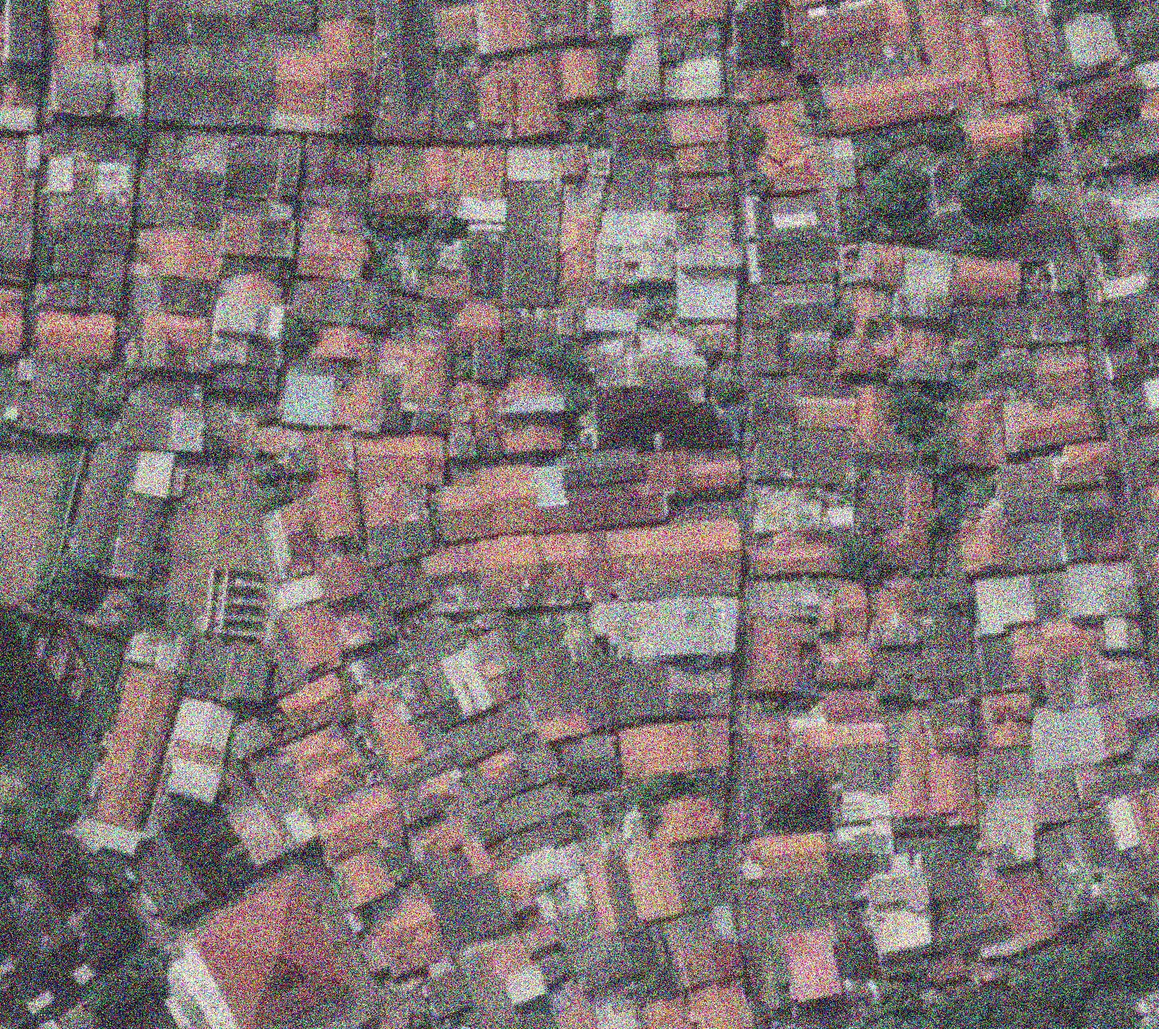building: (140, 868, 358, 1029), (420, 517, 744, 617), (785, 0, 995, 140), (733, 679, 895, 801), (582, 322, 719, 458), (62, 433, 177, 585), (85, 659, 185, 833), (121, 797, 255, 925), (149, 0, 274, 131), (1022, 805, 1146, 932), (549, 447, 678, 564), (738, 879, 842, 1018), (822, 58, 995, 137), (550, 888, 665, 1003), (826, 236, 911, 379), (589, 592, 742, 665), (921, 846, 1011, 963), (454, 925, 553, 1029), (136, 129, 232, 236), (861, 851, 939, 981), (622, 830, 726, 926), (429, 460, 545, 545), (460, 728, 567, 819), (1061, 87, 1159, 183), (157, 694, 238, 807), (0, 924, 95, 1019), (909, 573, 978, 703), (209, 766, 292, 873), (245, 746, 324, 858), (308, 778, 409, 865), (281, 719, 374, 813), (15, 830, 104, 925), (608, 657, 733, 724), (57, 882, 149, 973), (374, 0, 435, 136), (752, 193, 840, 285), (366, 895, 455, 984), (207, 295, 287, 394), (443, 631, 532, 719), (357, 471, 437, 568), (405, 809, 494, 896), (517, 646, 593, 747), (1036, 0, 1125, 86), (428, 867, 517, 952), (502, 183, 562, 309), (114, 388, 213, 464), (442, 694, 540, 770), (856, 471, 933, 567), (594, 204, 680, 289), (617, 717, 733, 780), (517, 837, 599, 926), (296, 187, 371, 282), (20, 354, 98, 441), (378, 339, 450, 433), (410, 650, 488, 735), (118, 379, 205, 455), (741, 767, 836, 836), (553, 175, 605, 299), (497, 365, 566, 457), (185, 638, 275, 708), (271, 669, 356, 742), (358, 687, 430, 773), (391, 762, 475, 834), (986, 198, 1073, 267), (1002, 395, 1100, 456), (279, 597, 350, 680), (261, 496, 331, 580), (917, 0, 986, 85), (621, 838, 686, 926), (293, 275, 393, 331), (433, 71, 508, 145), (43, 192, 133, 253), (202, 566, 274, 642), (979, 12, 1036, 108), (581, 848, 641, 939), (994, 867, 1058, 951), (1053, 486, 1121, 564), (0, 869, 57, 962), (657, 900, 739, 964), (745, 615, 809, 697), (675, 245, 741, 323), (220, 199, 298, 265), (1061, 559, 1138, 625), (133, 310, 212, 374), (751, 486, 854, 535), (134, 225, 221, 283), (746, 94, 814, 168), (824, 819, 899, 886), (504, 300, 588, 359), (642, 449, 741, 499), (779, 932, 842, 1010), (1115, 185, 1159, 296), (33, 308, 118, 365), (271, 47, 327, 133), (646, 790, 727, 849), (329, 844, 399, 912), (361, 510, 439, 571), (508, 51, 561, 140), (1062, 68, 1143, 126), (1032, 710, 1102, 776), (749, 282, 836, 335), (355, 435, 445, 486), (557, 729, 625, 796), (826, 908, 885, 985), (570, 649, 624, 733), (368, 144, 428, 219), (893, 248, 953, 323), (1090, 692, 1159, 757), (748, 530, 840, 578), (460, 931, 534, 990), (748, 830, 831, 882), (309, 469, 364, 546), (673, 933, 746, 991), (373, 554, 436, 621), (499, 778, 573, 834), (518, 836, 588, 895), (398, 611, 464, 673), (606, 154, 674, 214), (992, 460, 1060, 520), (952, 396, 1007, 470), (978, 630, 1044, 691), (962, 108, 1038, 160), (764, 142, 832, 199), (853, 466, 910, 534), (912, 148, 965, 221), (730, 0, 791, 63), (972, 576, 1035, 637), (926, 756, 977, 831), (339, 641, 410, 694), (560, 446, 645, 490), (215, 710, 278, 769), (945, 303, 1002, 368), (950, 256, 1022, 307), (1045, 654, 1108, 712), (971, 749, 1036, 805), (323, 69, 377, 136), (1000, 518, 1062, 576), (224, 136, 280, 200), (981, 804, 1035, 870), (553, 44, 611, 105), (50, 61, 112, 118), (131, 274, 214, 316), (922, 199, 981, 258), (794, 430, 855, 487), (278, 371, 337, 429), (474, 0, 535, 56), (451, 382, 499, 453), (1074, 759, 1143, 808), (330, 373, 386, 433), (1048, 441, 1118, 489), (747, 575, 821, 620), (1100, 294, 1158, 351), (661, 53, 725, 104), (741, 716, 792, 780), (871, 577, 916, 649), (49, 0, 100, 63), (420, 964, 475, 1022), (618, 663, 672, 722), (736, 56, 801, 105), (954, 514, 1007, 574), (888, 737, 926, 820), (843, 239, 906, 289), (314, 551, 369, 608), (123, 628, 188, 676), (309, 320, 374, 368), (45, 124, 127, 162), (1110, 786, 1157, 852), (512, 812, 579, 858), (1032, 344, 1091, 396), (981, 692, 1033, 750), (689, 982, 754, 1028), (4, 0, 45, 72), (319, 19, 374, 72), (925, 699, 977, 755), (491, 860, 540, 919), (0, 138, 37, 216), (585, 285, 642, 335), (102, 0, 147, 63), (1079, 199, 1127, 258), (609, 110, 670, 156), (621, 36, 663, 102), (329, 598, 378, 654), (85, 251, 128, 314), (528, 0, 590, 43), (819, 635, 871, 686), (666, 105, 729, 147), (977, 349, 1033, 396), (219, 268, 286, 307), (462, 235, 504, 297), (1033, 296, 1085, 345), (107, 60, 149, 120), (1119, 4, 1159, 67), (458, 146, 505, 199), (751, 425, 795, 481), (840, 745, 889, 795), (750, 377, 801, 425), (431, 0, 478, 52), (1024, 776, 1077, 822), (988, 304, 1038, 352), (73, 159, 134, 198), (475, 66, 514, 126), (1040, 619, 1101, 657), (270, 571, 325, 613), (452, 300, 501, 347), (633, 963, 683, 1009), (329, 142, 374, 193), (1121, 436, 1159, 496), (676, 211, 736, 248), (0, 216, 33, 283), (506, 146, 561, 186), (797, 395, 857, 431), (252, 0, 317, 33), (231, 129, 283, 170), (674, 175, 733, 211), (822, 689, 881, 725), (874, 649, 914, 701), (0, 80, 39, 133), (673, 142, 731, 177), (787, 330, 832, 374), (1104, 656, 1149, 700), (853, 443, 916, 474), (833, 581, 868, 636), (855, 386, 887, 446), (1029, 568, 1065, 621), (889, 354, 950, 385), (1112, 380, 1159, 419), (751, 326, 789, 374), (554, 985, 596, 1028), (0, 286, 25, 356), (532, 462, 568, 510), (425, 146, 459, 195), (302, 139, 336, 188), (534, 948, 573, 989), (830, 136, 859, 191), (594, 995, 642, 1028), (610, 0, 654, 36), (1044, 254, 1081, 296), (654, 0, 697, 36), (502, 393, 566, 417), (52, 239, 92, 277), (642, 998, 692, 1028), (41, 278, 87, 309), (425, 268, 466, 302), (471, 345, 507, 383), (1101, 621, 1144, 652), (926, 958, 967, 989), (346, 683, 379, 720), (45, 154, 75, 194), (316, 0, 374, 20), (1103, 348, 1142, 377), (559, 144, 588, 182), (585, 0, 612, 38), (0, 105, 36, 132), (772, 210, 817, 231), (1094, 535, 1126, 562), (657, 36, 684, 67), (587, 149, 611, 180), (492, 706, 512, 724), (537, 513, 557, 529), (507, 699, 524, 711)
tree: (945, 144, 1044, 235), (877, 378, 954, 452), (612, 755, 684, 828), (122, 581, 200, 638), (831, 526, 896, 593), (43, 550, 106, 615), (867, 159, 929, 223), (11, 786, 76, 847), (848, 120, 910, 179), (539, 331, 597, 391), (81, 843, 144, 897), (932, 479, 994, 533), (835, 198, 889, 254), (271, 306, 325, 359), (916, 433, 965, 485), (1117, 912, 1159, 971), (890, 209, 940, 257), (1020, 112, 1066, 163), (555, 380, 600, 424), (114, 112, 157, 154), (928, 828, 981, 860), (255, 472, 296, 512), (570, 110, 610, 149), (916, 121, 963, 153), (427, 213, 466, 247), (198, 416, 231, 456), (1100, 308, 1134, 345), (92, 383, 123, 423), (1028, 150, 1063, 184), (711, 374, 745, 408), (746, 172, 773, 196), (831, 306, 854, 333)
